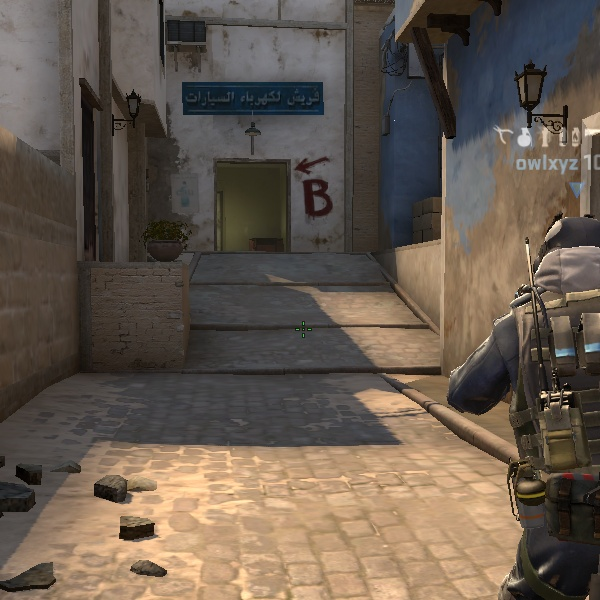ct_body: (441, 204, 600, 600)
ct_head: (524, 202, 600, 292)
